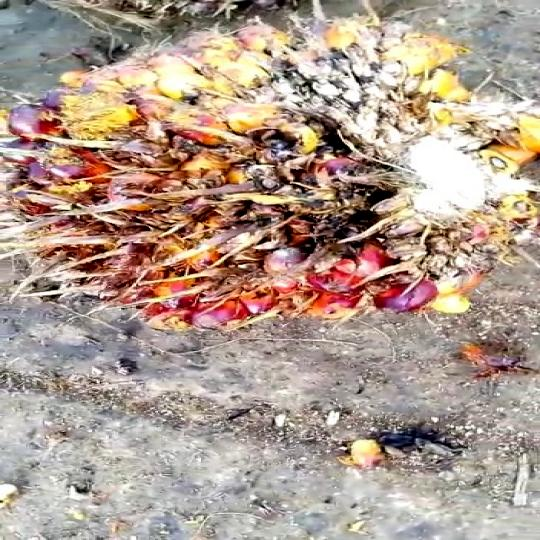masak: (0, 9, 540, 339)
